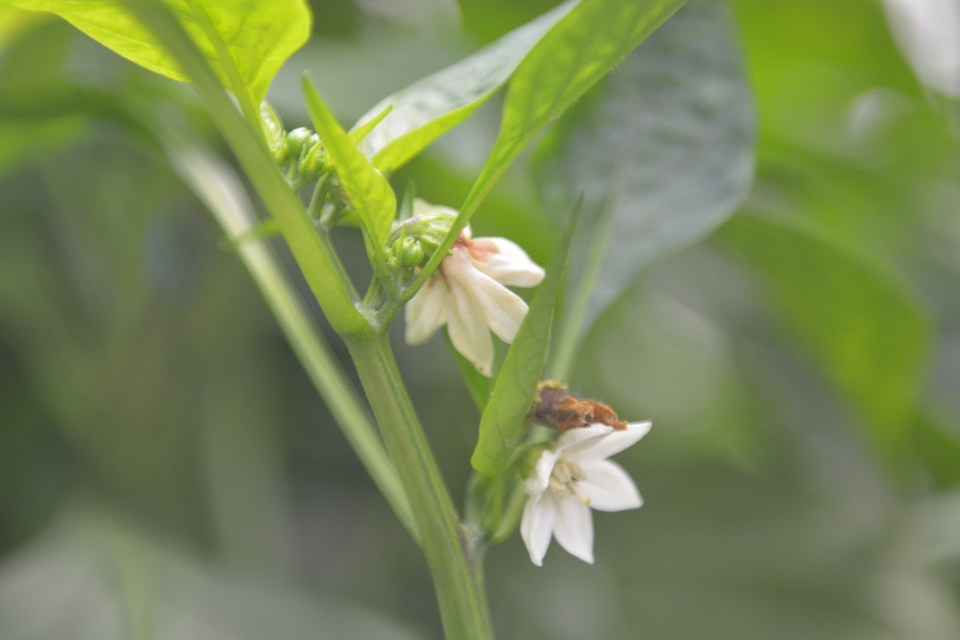flower: (400, 220, 547, 376), (517, 416, 655, 580)
